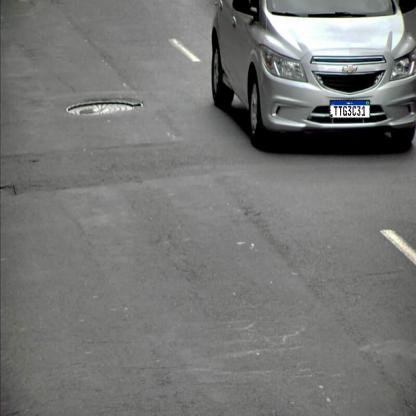PlacaM: (330, 100, 370, 118)
